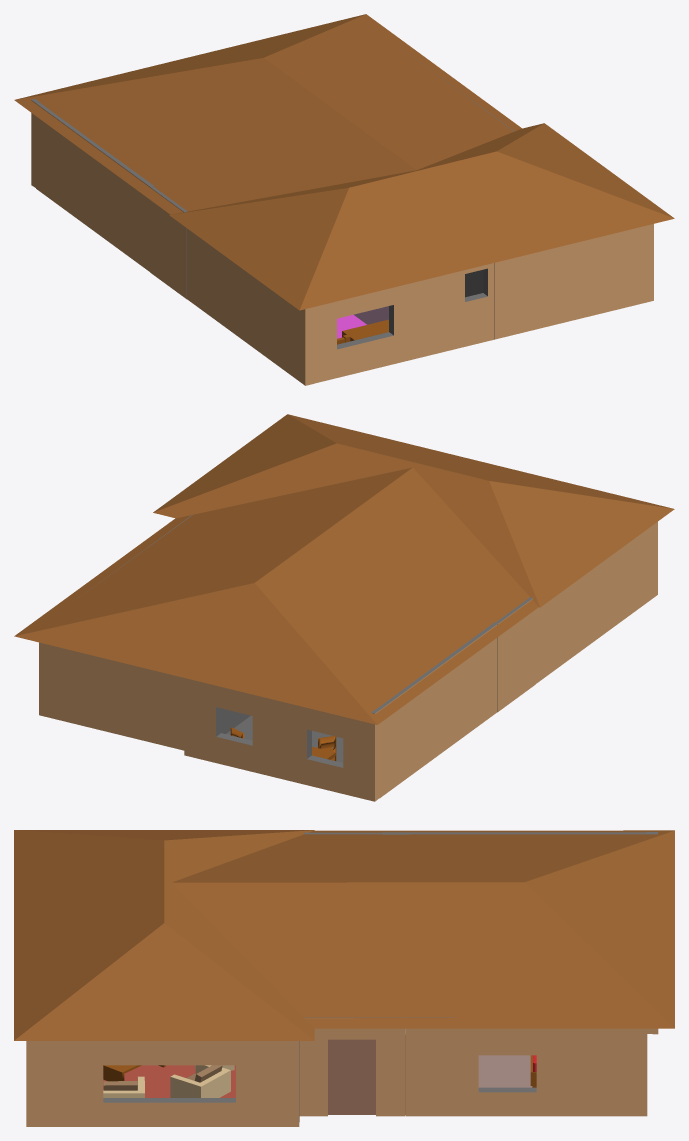
Rendered from YuriHouseTDone 1.fbx.
The picture shows the model from 3 angles, top to bottom: view 1: azimuth 30°, elevation 25°; view 2: azimuth 150°, elevation 25°; view 3: azimuth 270°, elevation 25°; orthographic projection. The views are drawn at different scales.
Visible parts, largest first — view 1: Cone, Cube.006, Cube.001; view 2: Cone, Cube.006, Plane.005; view 3: Cone, Cube.006, Plane.005, SmallChair2, LargeChair, CoffeeTable.
Part boxes in pixels (x1,y1,x2,y2): Cone: [14, 14, 674, 310]; Cube.006: [31, 58, 653, 385]; Cube.001: [342, 319, 388, 341]; Cone: [14, 414, 674, 724]; Cube.006: [39, 514, 657, 801]; Plane.005: [226, 715, 343, 762]; Cone: [14, 830, 674, 1040]; Cube.006: [26, 832, 658, 1126]; Plane.005: [103, 1035, 532, 1114]; SmallChair2: [170, 1065, 230, 1097]; LargeChair: [103, 1076, 144, 1097]; CoffeeTable: [103, 1065, 165, 1081].
Size of the model in its own units: 1655 by 552 by 2190.
